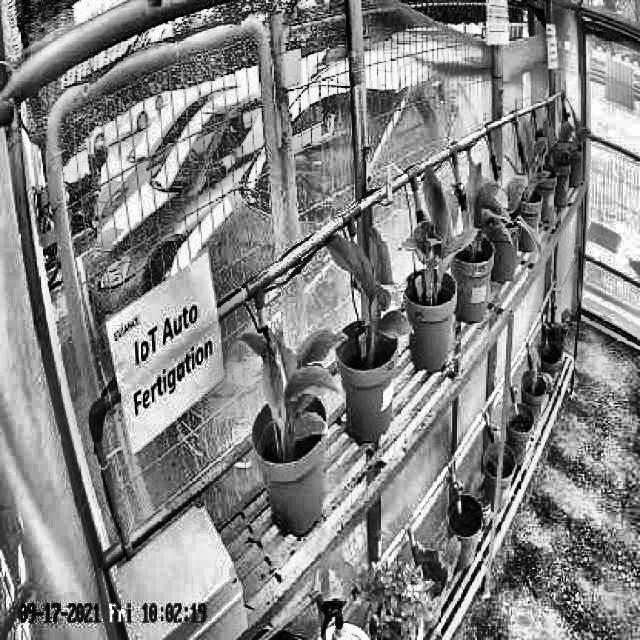plants: (241, 322, 341, 460), (322, 229, 416, 368), (400, 168, 480, 306), (456, 172, 513, 268), (517, 119, 551, 204)
